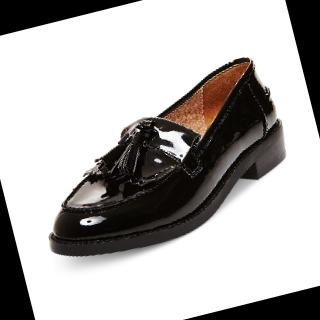loafers: (12, 42, 307, 274)
